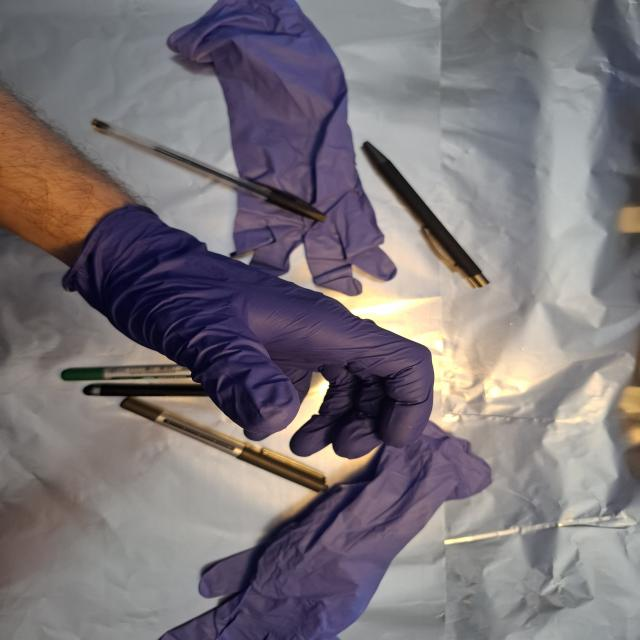glove_on: (64, 207, 439, 461)
